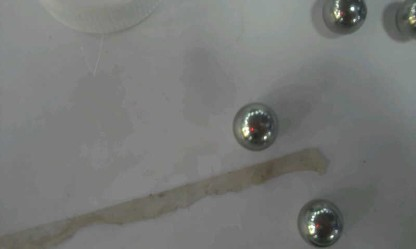ironball: (296, 198, 344, 248), (231, 101, 278, 151), (321, 0, 367, 34), (395, 0, 415, 40)
